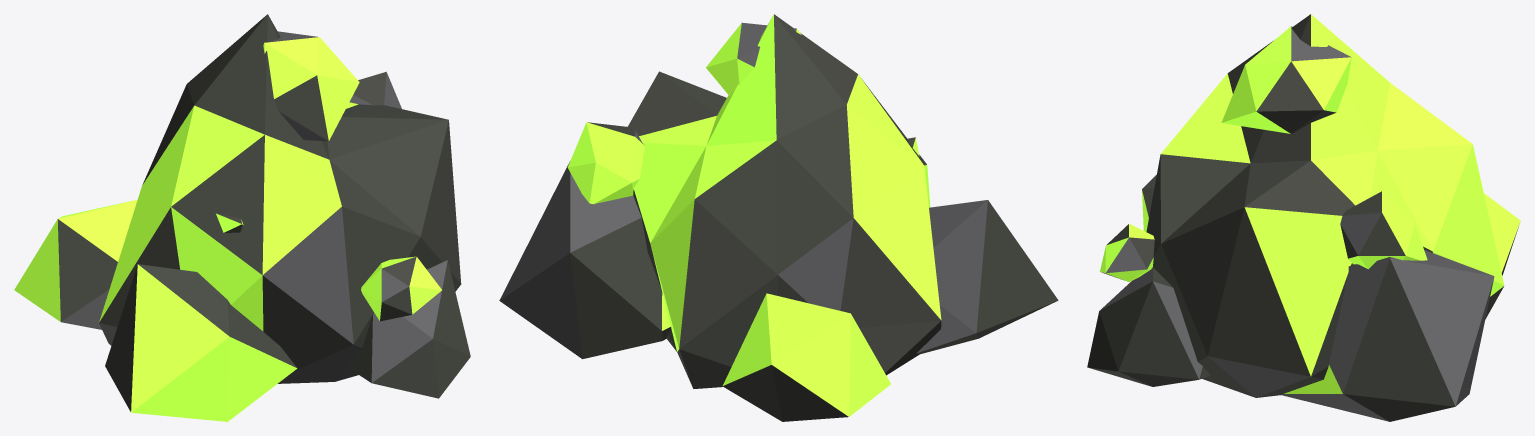
File: uranium_ore_b.glb
3 renders of one model, left to right at view 1: azimuth 30°, elevation 25°; view 2: azimuth 150°, elevation 25°; view 3: azimuth 270°, elevation 25°, orthographic. The views are drawn at different scales.
Parts seen in each view (by area): view 1: uranium_ore_b; view 2: uranium_ore_b; view 3: uranium_ore_b.
Part boxes in pixels (<box>): uranium_ore_b: <box>14,14,470,421</box>; uranium_ore_b: <box>499,14,1058,421</box>; uranium_ore_b: <box>1087,14,1520,421</box>.
Size of the model in its own units: 1.24 by 0.9027 by 1.1.
